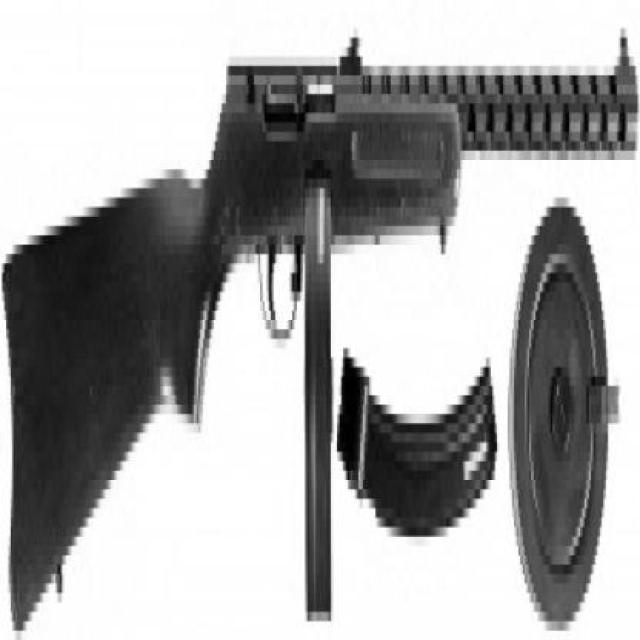weapon: (1, 27, 640, 634)
